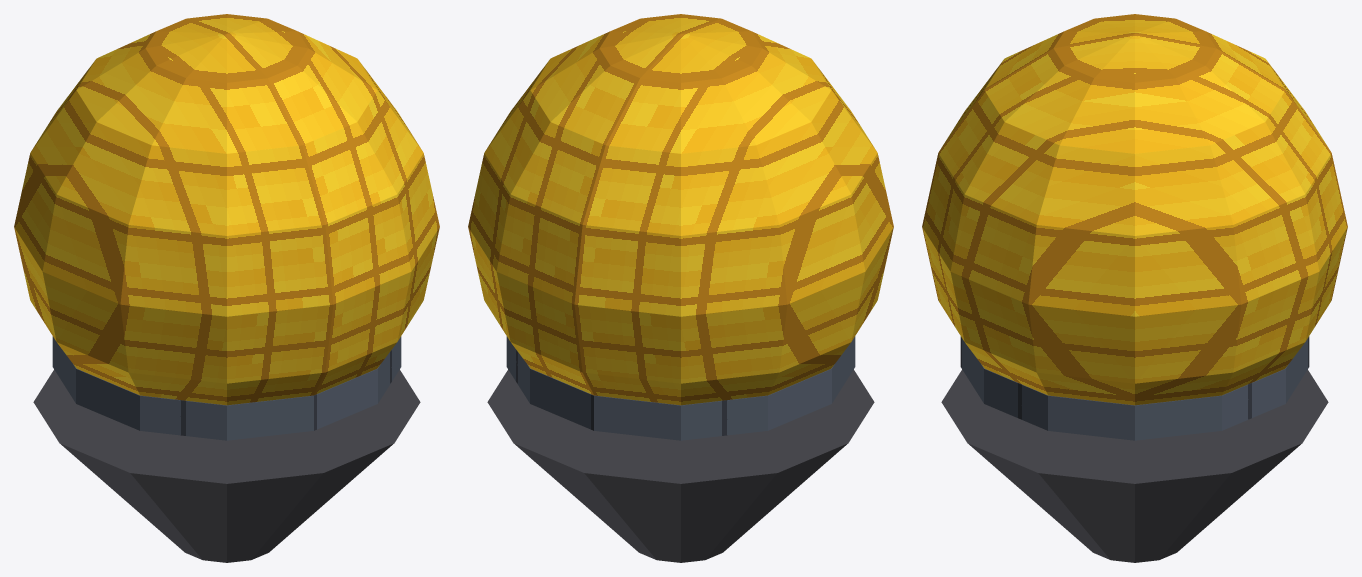
Rendered from apogee_motor.glb.
3 views of the same model, side by side, from view 1: azimuth 30°, elevation 25°; view 2: azimuth 150°, elevation 25°; view 3: azimuth 270°, elevation 25° (orthographic).
Visible parts, largest first — view 1: apogee_motor; view 2: apogee_motor; view 3: apogee_motor.
Part boxes in pixels (x1,y1,x2,y2): apogee_motor: (14,14,439,562); apogee_motor: (468,14,893,562); apogee_motor: (922,14,1347,562).
Size of the model in its own units: 0.44 by 0.58 by 0.44.
3 materials, 2 textured.
